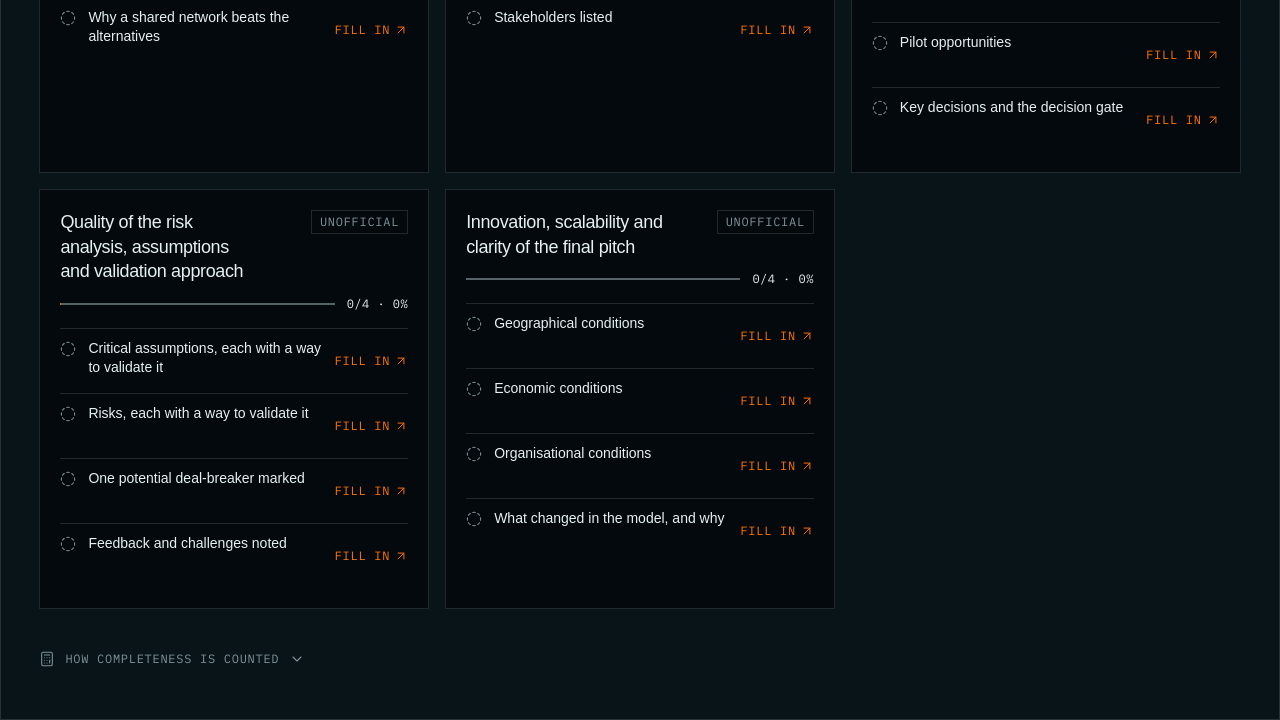
Test case: ReadinessPanel (D-30) › explains how completeness is counted, collapsed by default (D-33)
This screenshot has width=1280, height=720.
(page scrolled)
Click the button "How completeness is counted". click: [172, 659]
box: [39,637,305,681]
(page scrolled)
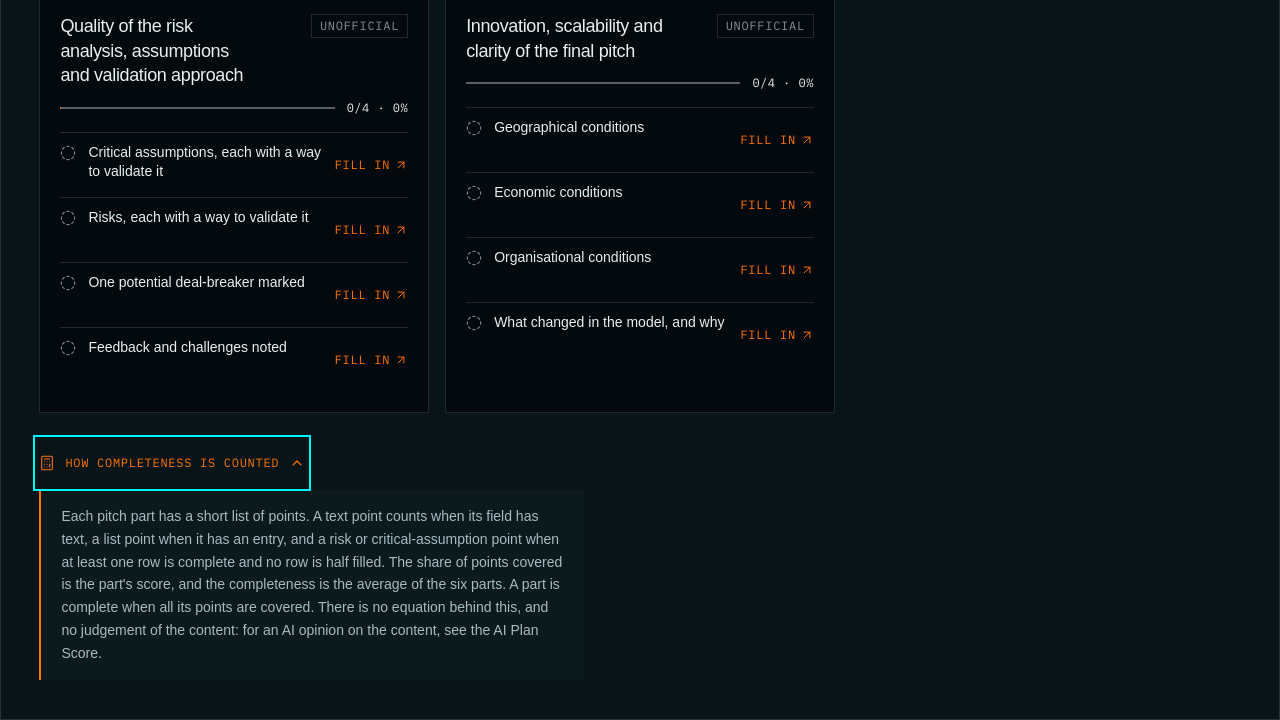
Expected: the text "There is no equation behind this" is shown, [61,508,562,660]
